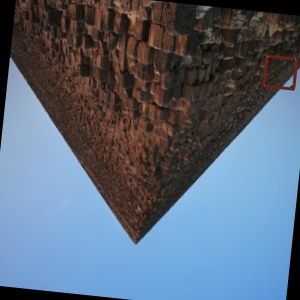square: (261, 53, 299, 93)
